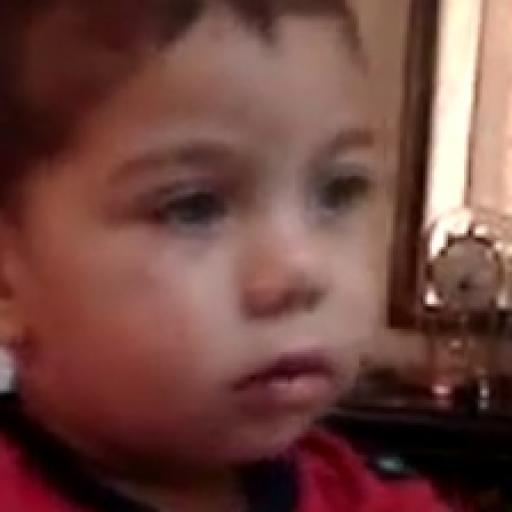Autism: (12, 11, 460, 512)
